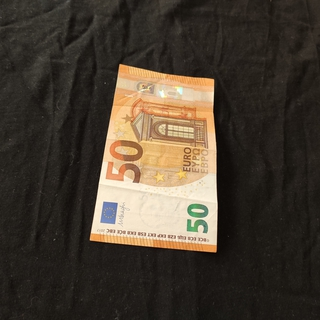50EUROFront: (88, 61, 218, 254)
